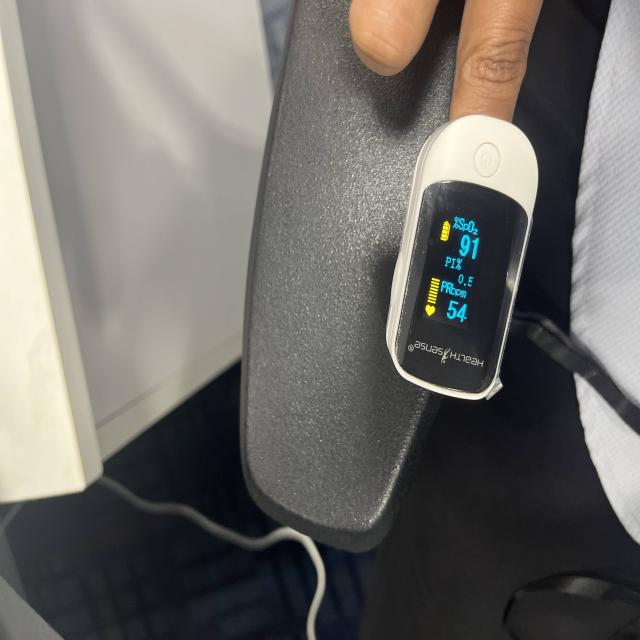spo2: (386, 115, 539, 404)
